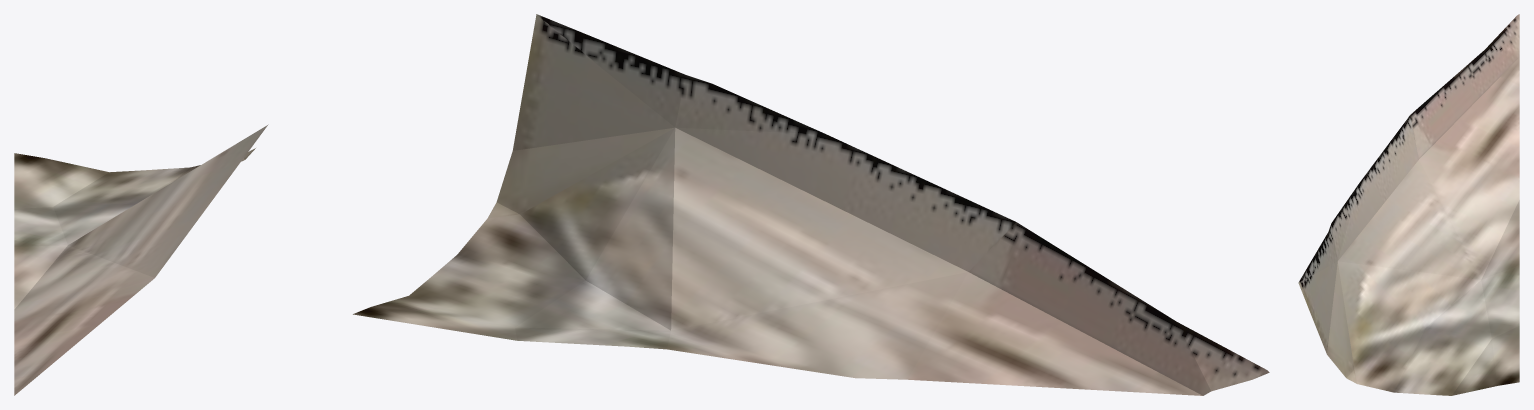
The picture shows the model from 3 angles, left to right: view 1: azimuth 90°, elevation 25°; view 2: azimuth 150°, elevation 25°; view 3: azimuth 270°, elevation 25°; orthographic projection. The views are drawn at different scales.
Bounding box in the file's own units: 2.65 × 0.5197 × 0.9211.
Materials: 1 (1 with a texture image).
